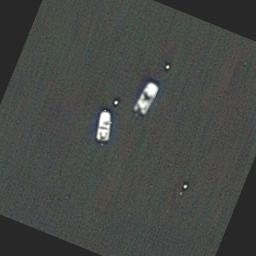boat: (130, 76, 160, 118), (88, 106, 118, 146)
